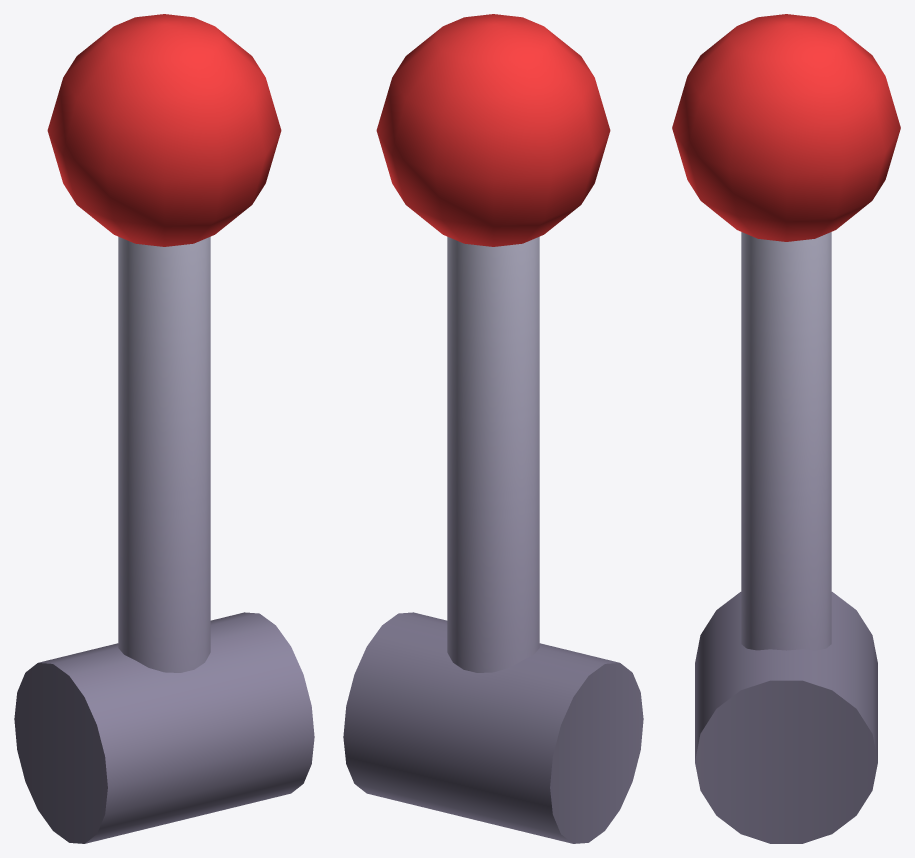
Rendered from leverBou.gltf.
3 views of the same model, side by side, from view 1: azimuth 30°, elevation 25°; view 2: azimuth 150°, elevation 25°; view 3: azimuth 270°, elevation 25° (orthographic). The views are drawn at different scales.
Visible parts, largest first — view 1: Cylinder002_Material #26_0; view 2: Cylinder002_Material #26_0; view 3: Cylinder002_Material #26_0.
Boxes of the visible parts, left/top/right/bottom form: Cylinder002_Material #26_0: left=14, top=14, right=314, bottom=843; Cylinder002_Material #26_0: left=343, top=14, right=643, bottom=843; Cylinder002_Material #26_0: left=672, top=14, right=900, bottom=843.
Bounding box in the file's own units: 0.255 × 0.9282 × 0.25.
Materials: 1 (1 with a texture image).
